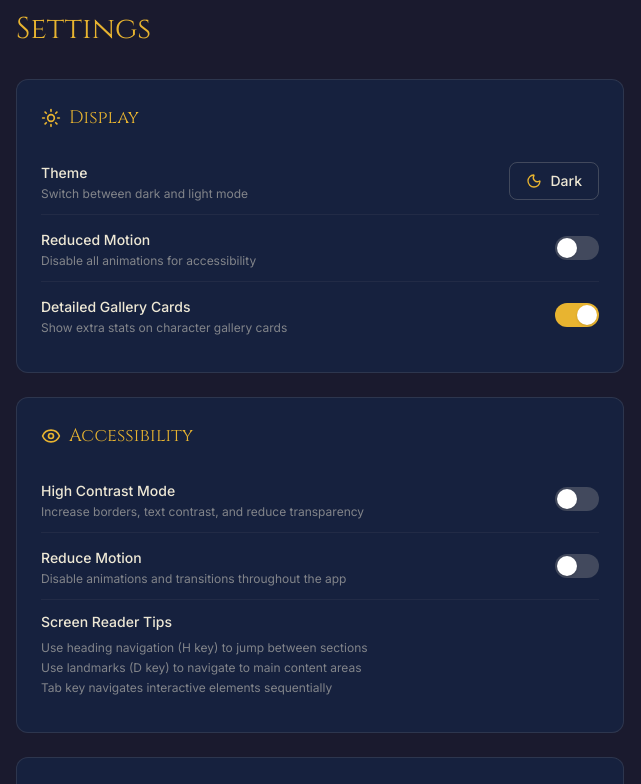
Test case: SettingsPage › Theme toggle › should toggle theme from dark to light when clicked
Click the button with test id "theme-toggle". click: x=554, y=181
box: left=510, top=162, right=599, bottom=200
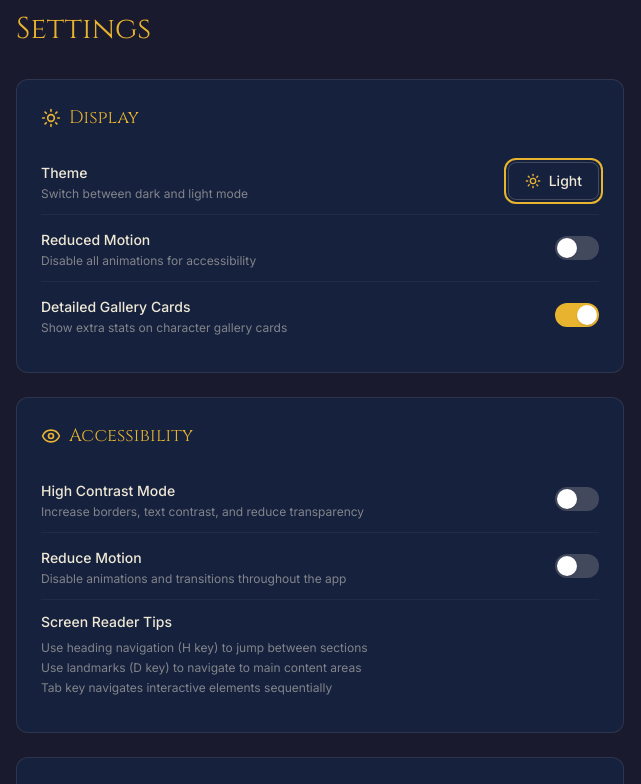
Now the text "Light" is shown, box left=549, top=171, right=582, bottom=191
